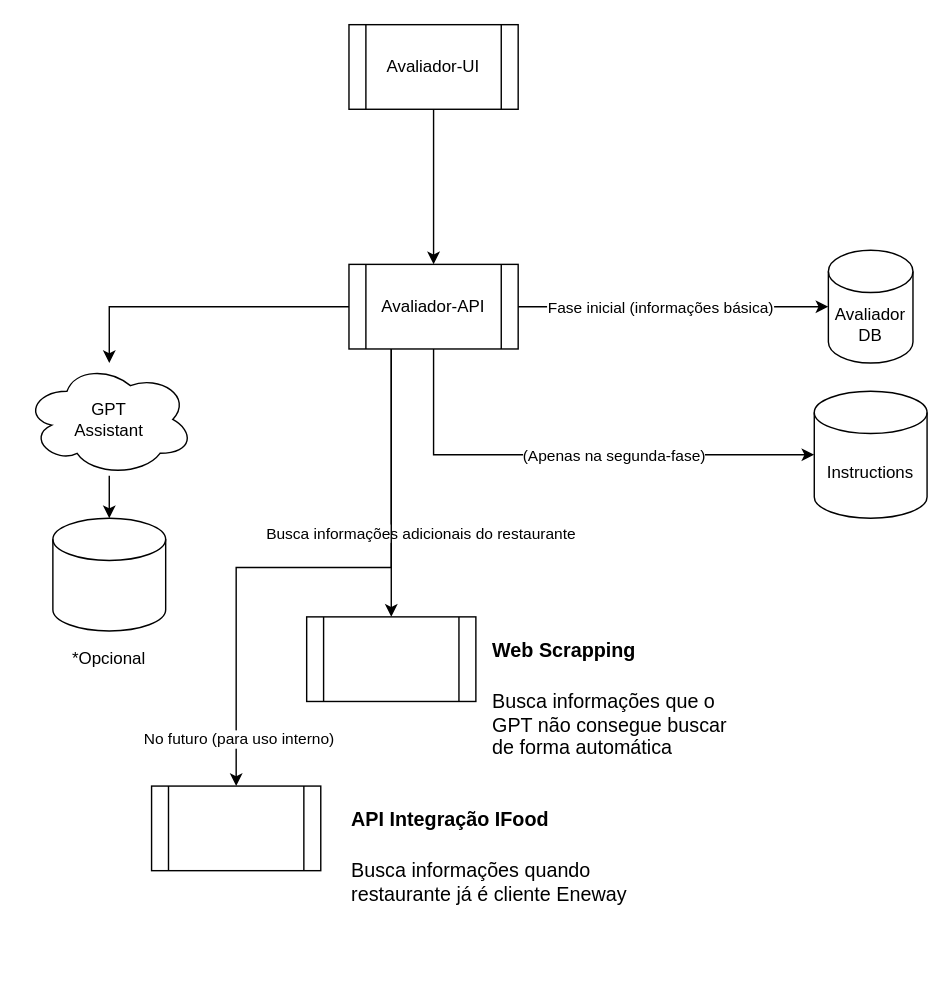
Image size: 952x984. Some labels were removed from this diagram. The shapes that lost their labels are listed below. From the top down, each one's centre as x and y in pixels, then its label:
At [108,574]: "VectorStore".
At [390,658]: "Ifood-api-scrap".
At [235,828]: "ifood-api-merchant".
